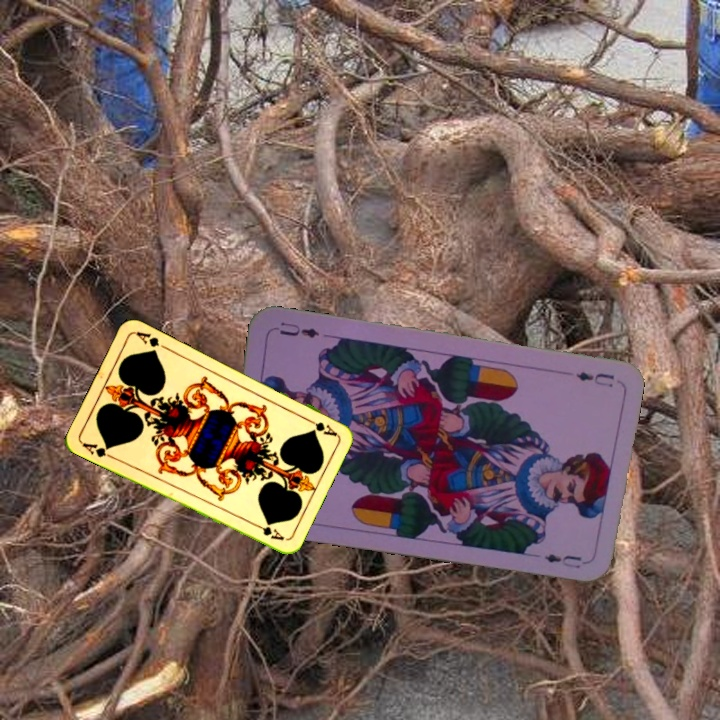EU: (571, 367, 617, 390)
GA: (301, 414, 339, 439), (78, 438, 117, 462)
